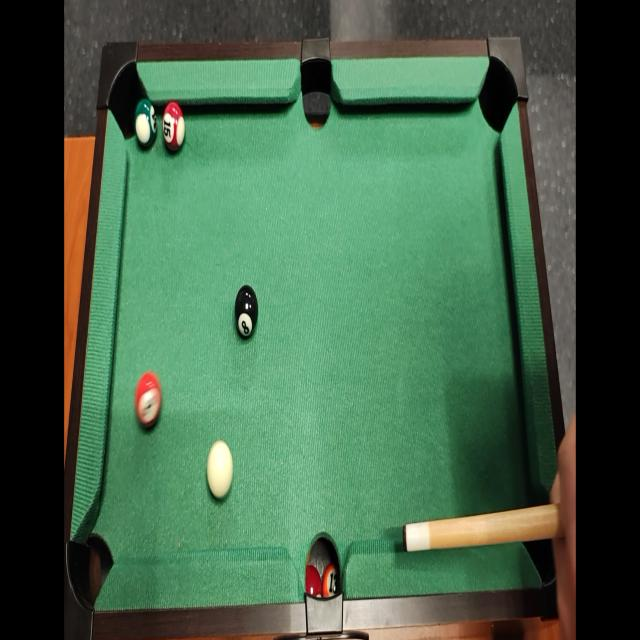cue ball: (205, 438, 235, 506)
other: (133, 367, 165, 431), (234, 281, 261, 345), (132, 96, 158, 153), (162, 99, 186, 151)
